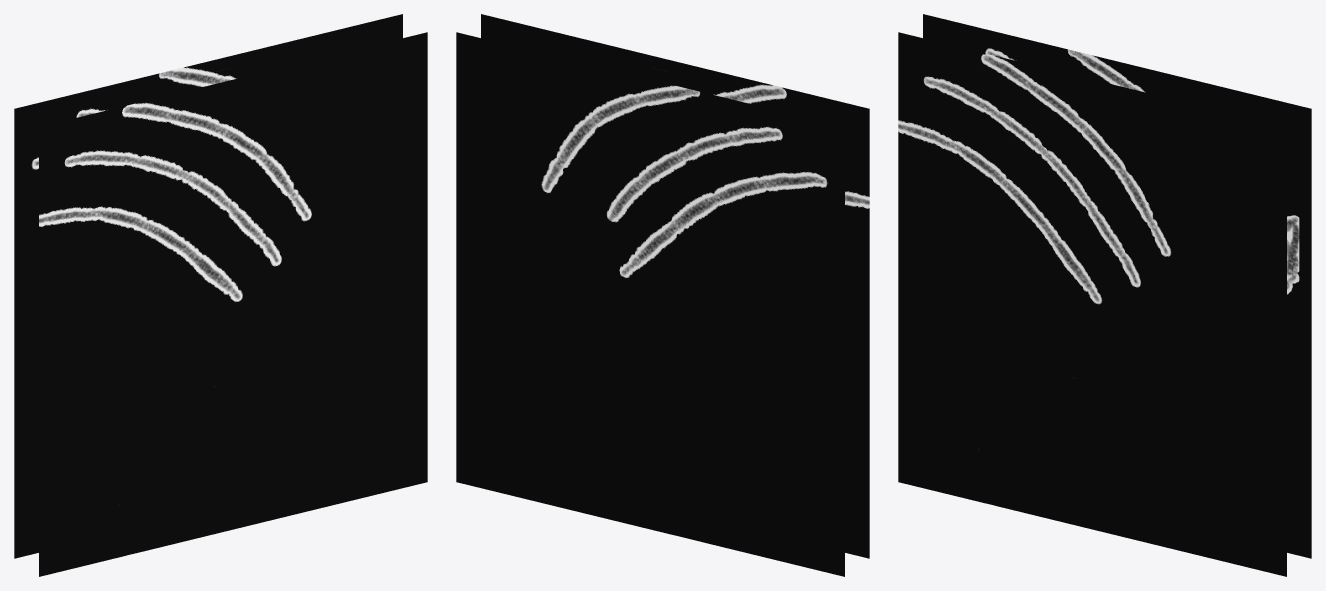
File: sword.gltf
3 renders of one model, left to right at view 1: azimuth 30°, elevation 25°; view 2: azimuth 150°, elevation 25°; view 3: azimuth 330°, elevation 25°, orthographic.
Visible parts, largest first — view 1: Canvas 2, Canvas 3; view 2: Canvas 3, Canvas 2; view 3: Canvas 2, Canvas 3, Canvas 1.
Part boxes in pixels (bbox=[...]): Canvas 2: bbox=[39, 32, 427, 576]; Canvas 3: bbox=[14, 14, 402, 558]; Canvas 3: bbox=[456, 32, 844, 576]; Canvas 2: bbox=[481, 14, 869, 558]; Canvas 2: bbox=[898, 32, 1286, 576]; Canvas 3: bbox=[923, 14, 1311, 558]; Canvas 1: bbox=[1287, 215, 1299, 294].
Bounding box in the file's own units: 0.9043 × 1 × 0.1.
Materials: 3 (3 with a texture image).
